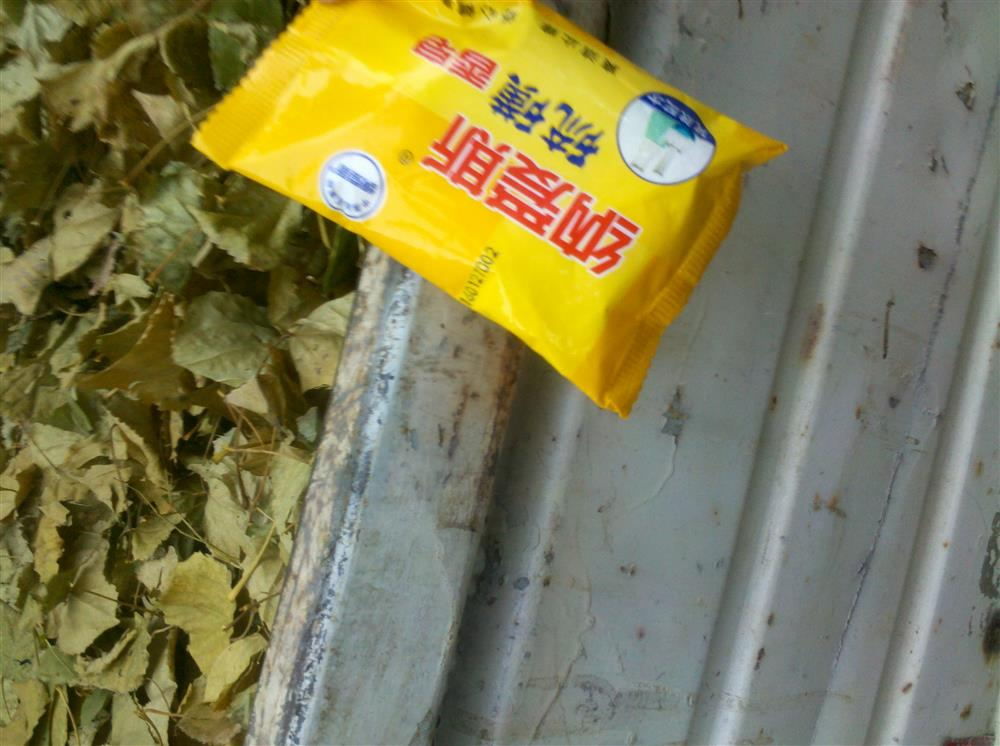nice_soap: (184, 4, 780, 419)
